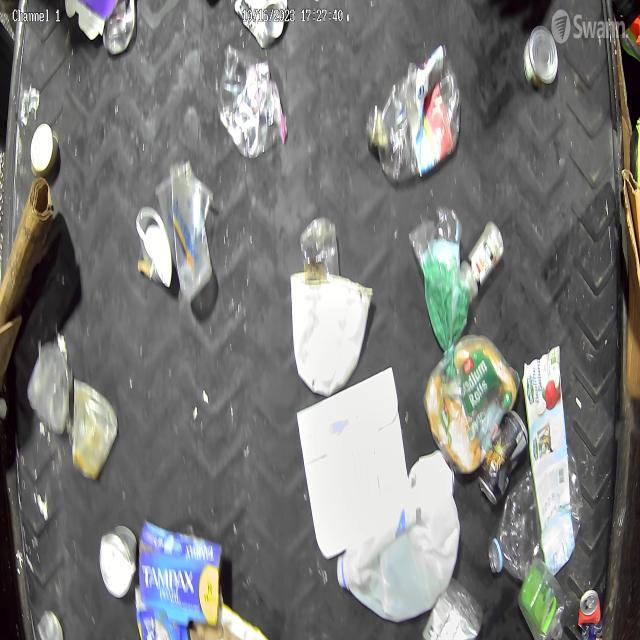can: (475, 408, 530, 508), (96, 517, 143, 607), (518, 20, 564, 106)
milk_jug: (335, 444, 460, 624)
plastic_bottle: (480, 448, 585, 586), (362, 45, 456, 180)
